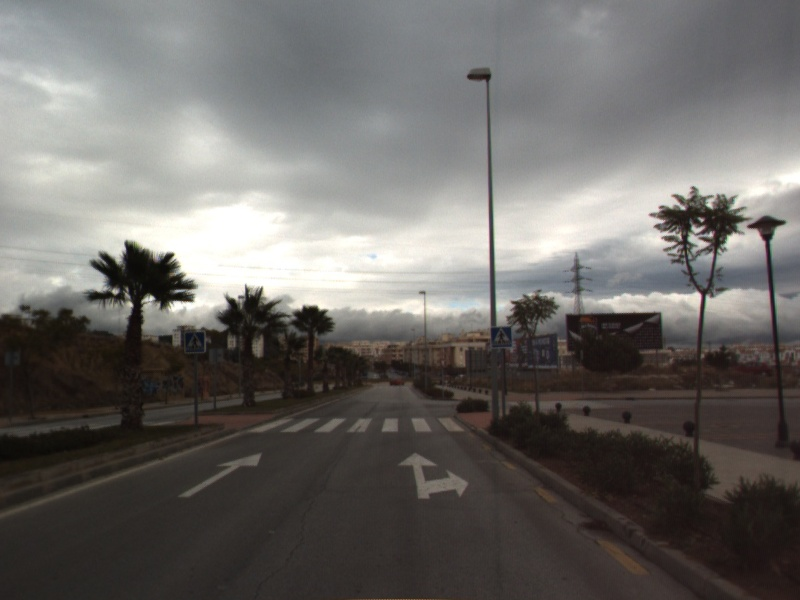STRAIGHT: (176, 450, 264, 499)
STRAIGHT_RIGHT: (395, 450, 471, 501)
